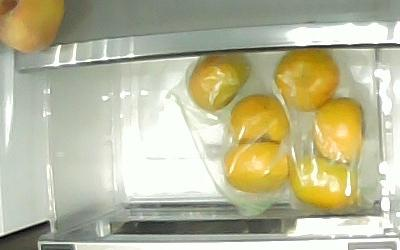persimmon_vinyl: (273, 50, 340, 111), (289, 153, 360, 210), (221, 140, 293, 193), (186, 55, 252, 112), (310, 96, 366, 162), (229, 92, 290, 145)
